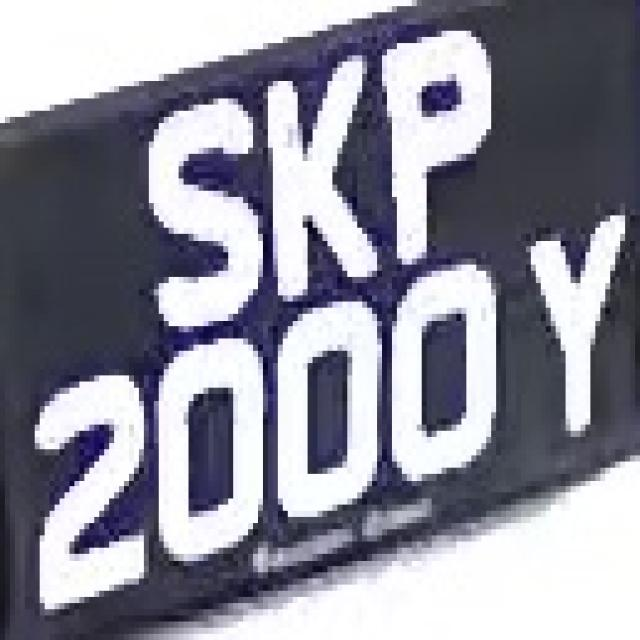0: (144, 332, 273, 572), (263, 289, 392, 529), (382, 252, 506, 492)
2: (35, 363, 154, 628)
K: (253, 55, 372, 308)
P: (367, 12, 496, 283)
S: (124, 80, 273, 351)
Y: (506, 216, 635, 450)
